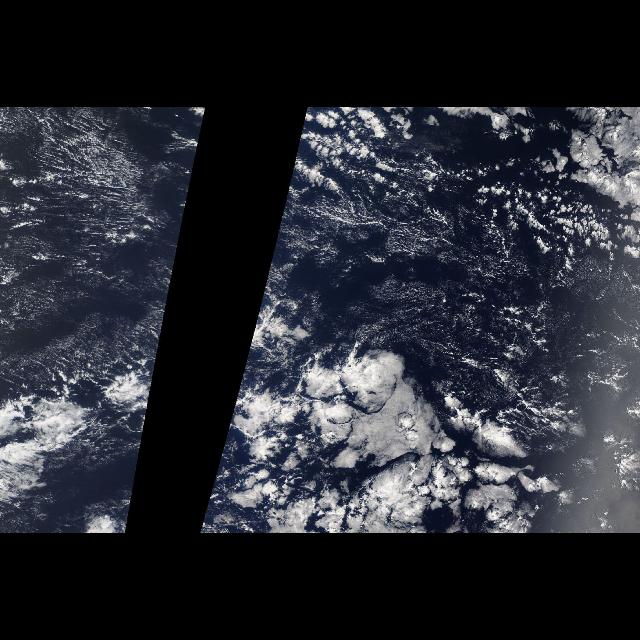Sugar: (4, 107, 160, 360)
